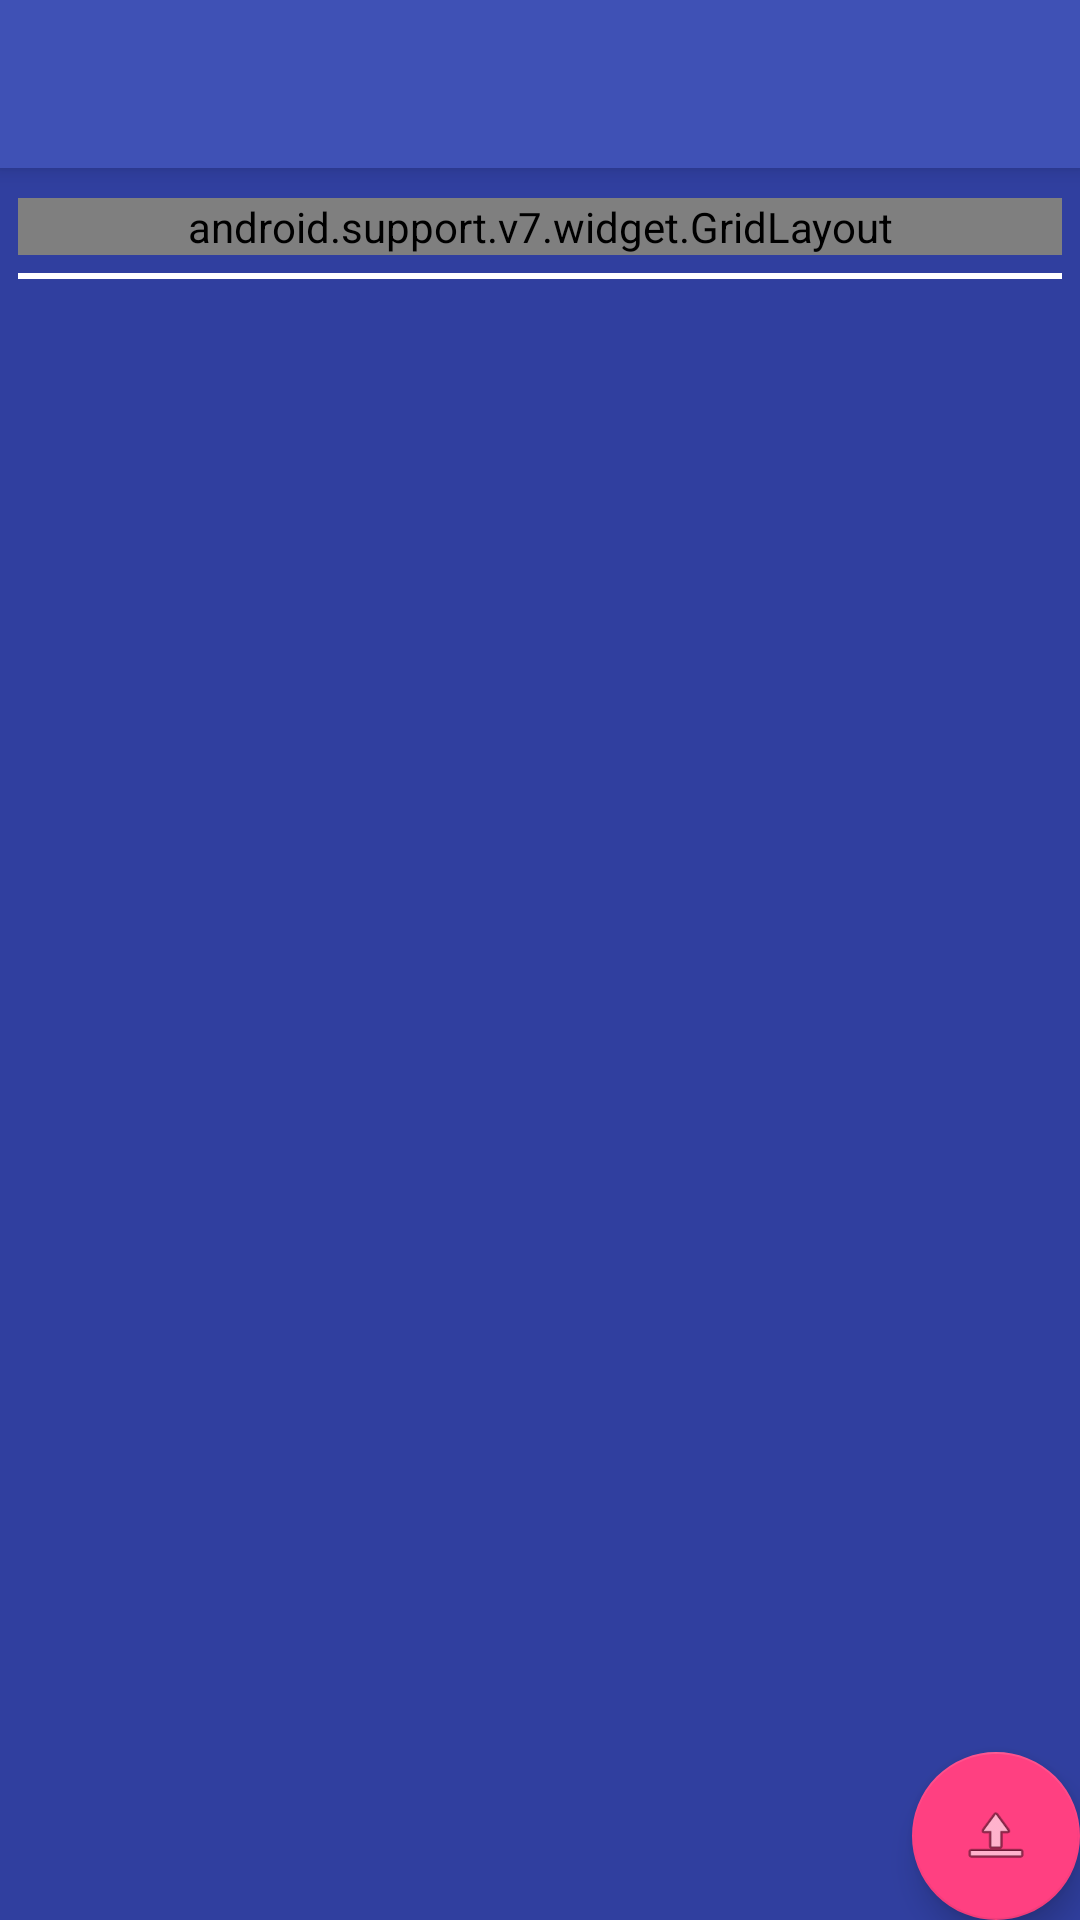

Icons on this 1080*1920 Android screen, each with its box as (x1, y1, x2, y2):
upload: (912, 1752, 1080, 1920)
